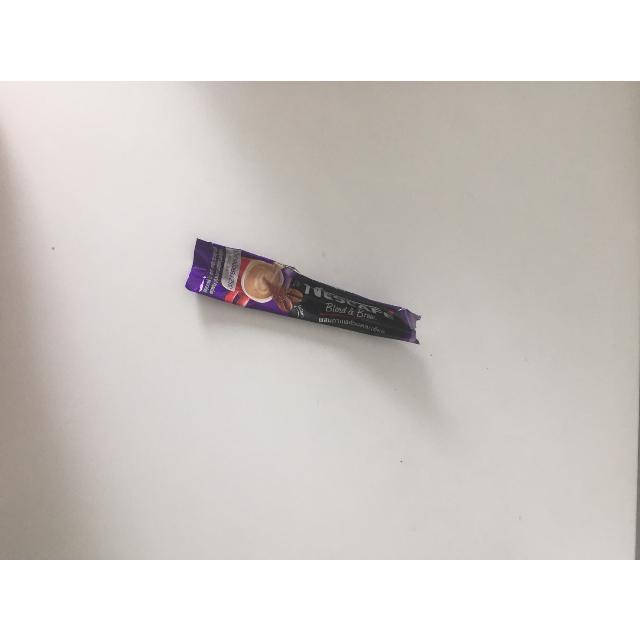Paquete de plastico: (186, 240, 423, 345)
